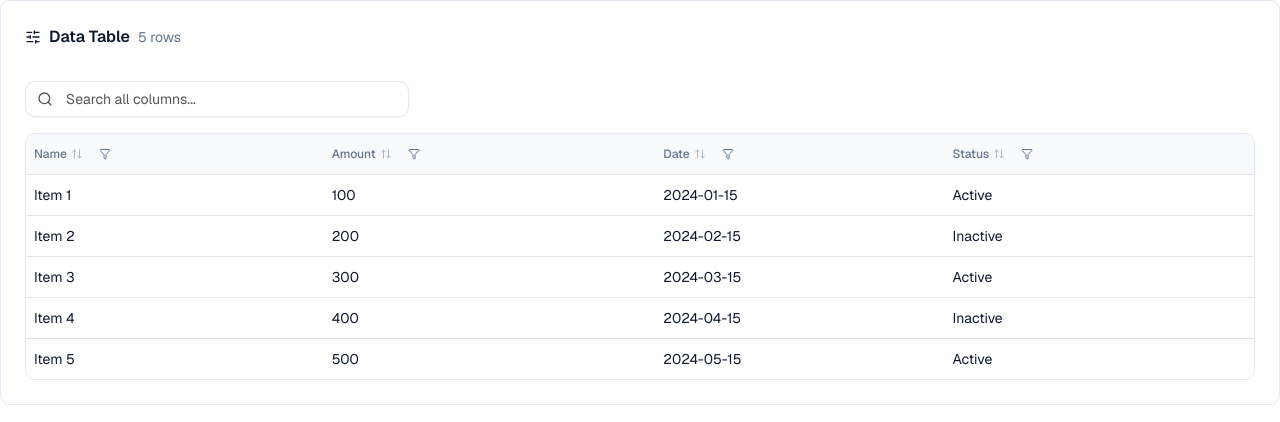
Test: ReportDataTable Component › global search filter (AC-23.6.3) › shows clear button when search has value
Type "test" into the search field with test id "global-search-input" at (217, 99), box [25, 81, 409, 117]
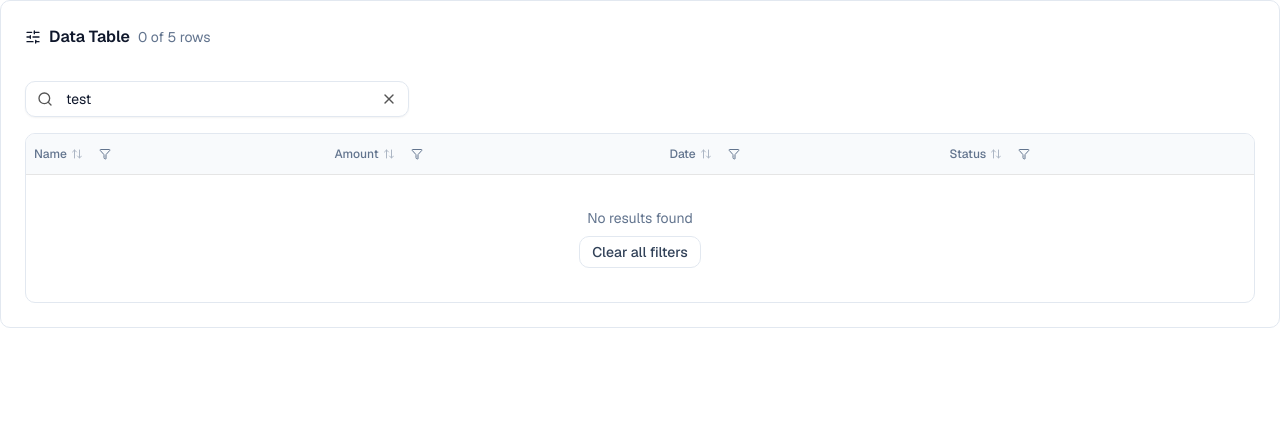
Now the button named "Clear search" is shown, box [381, 91, 397, 107]
